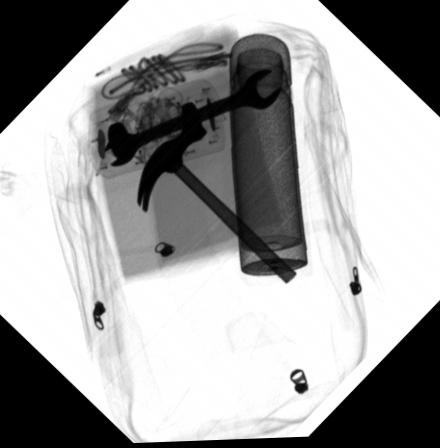Hammer: (137, 118, 298, 286)
Wrench: (104, 69, 281, 167)
